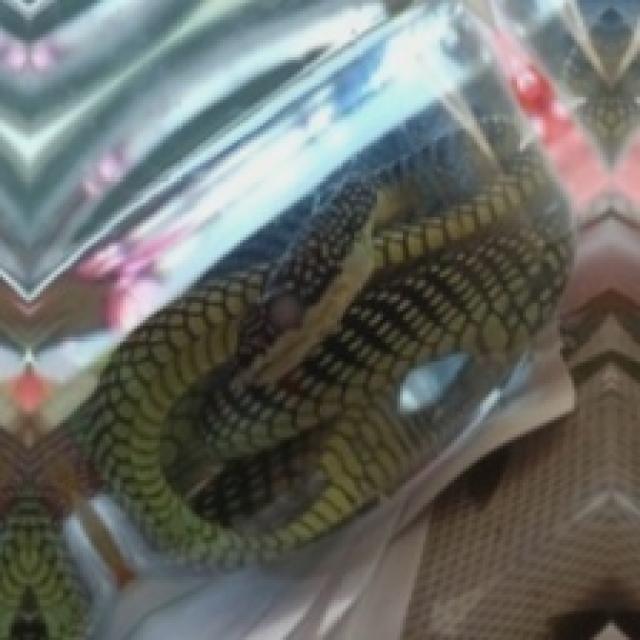paradise tree snake: (69, 3, 569, 563), (74, 111, 569, 563)
